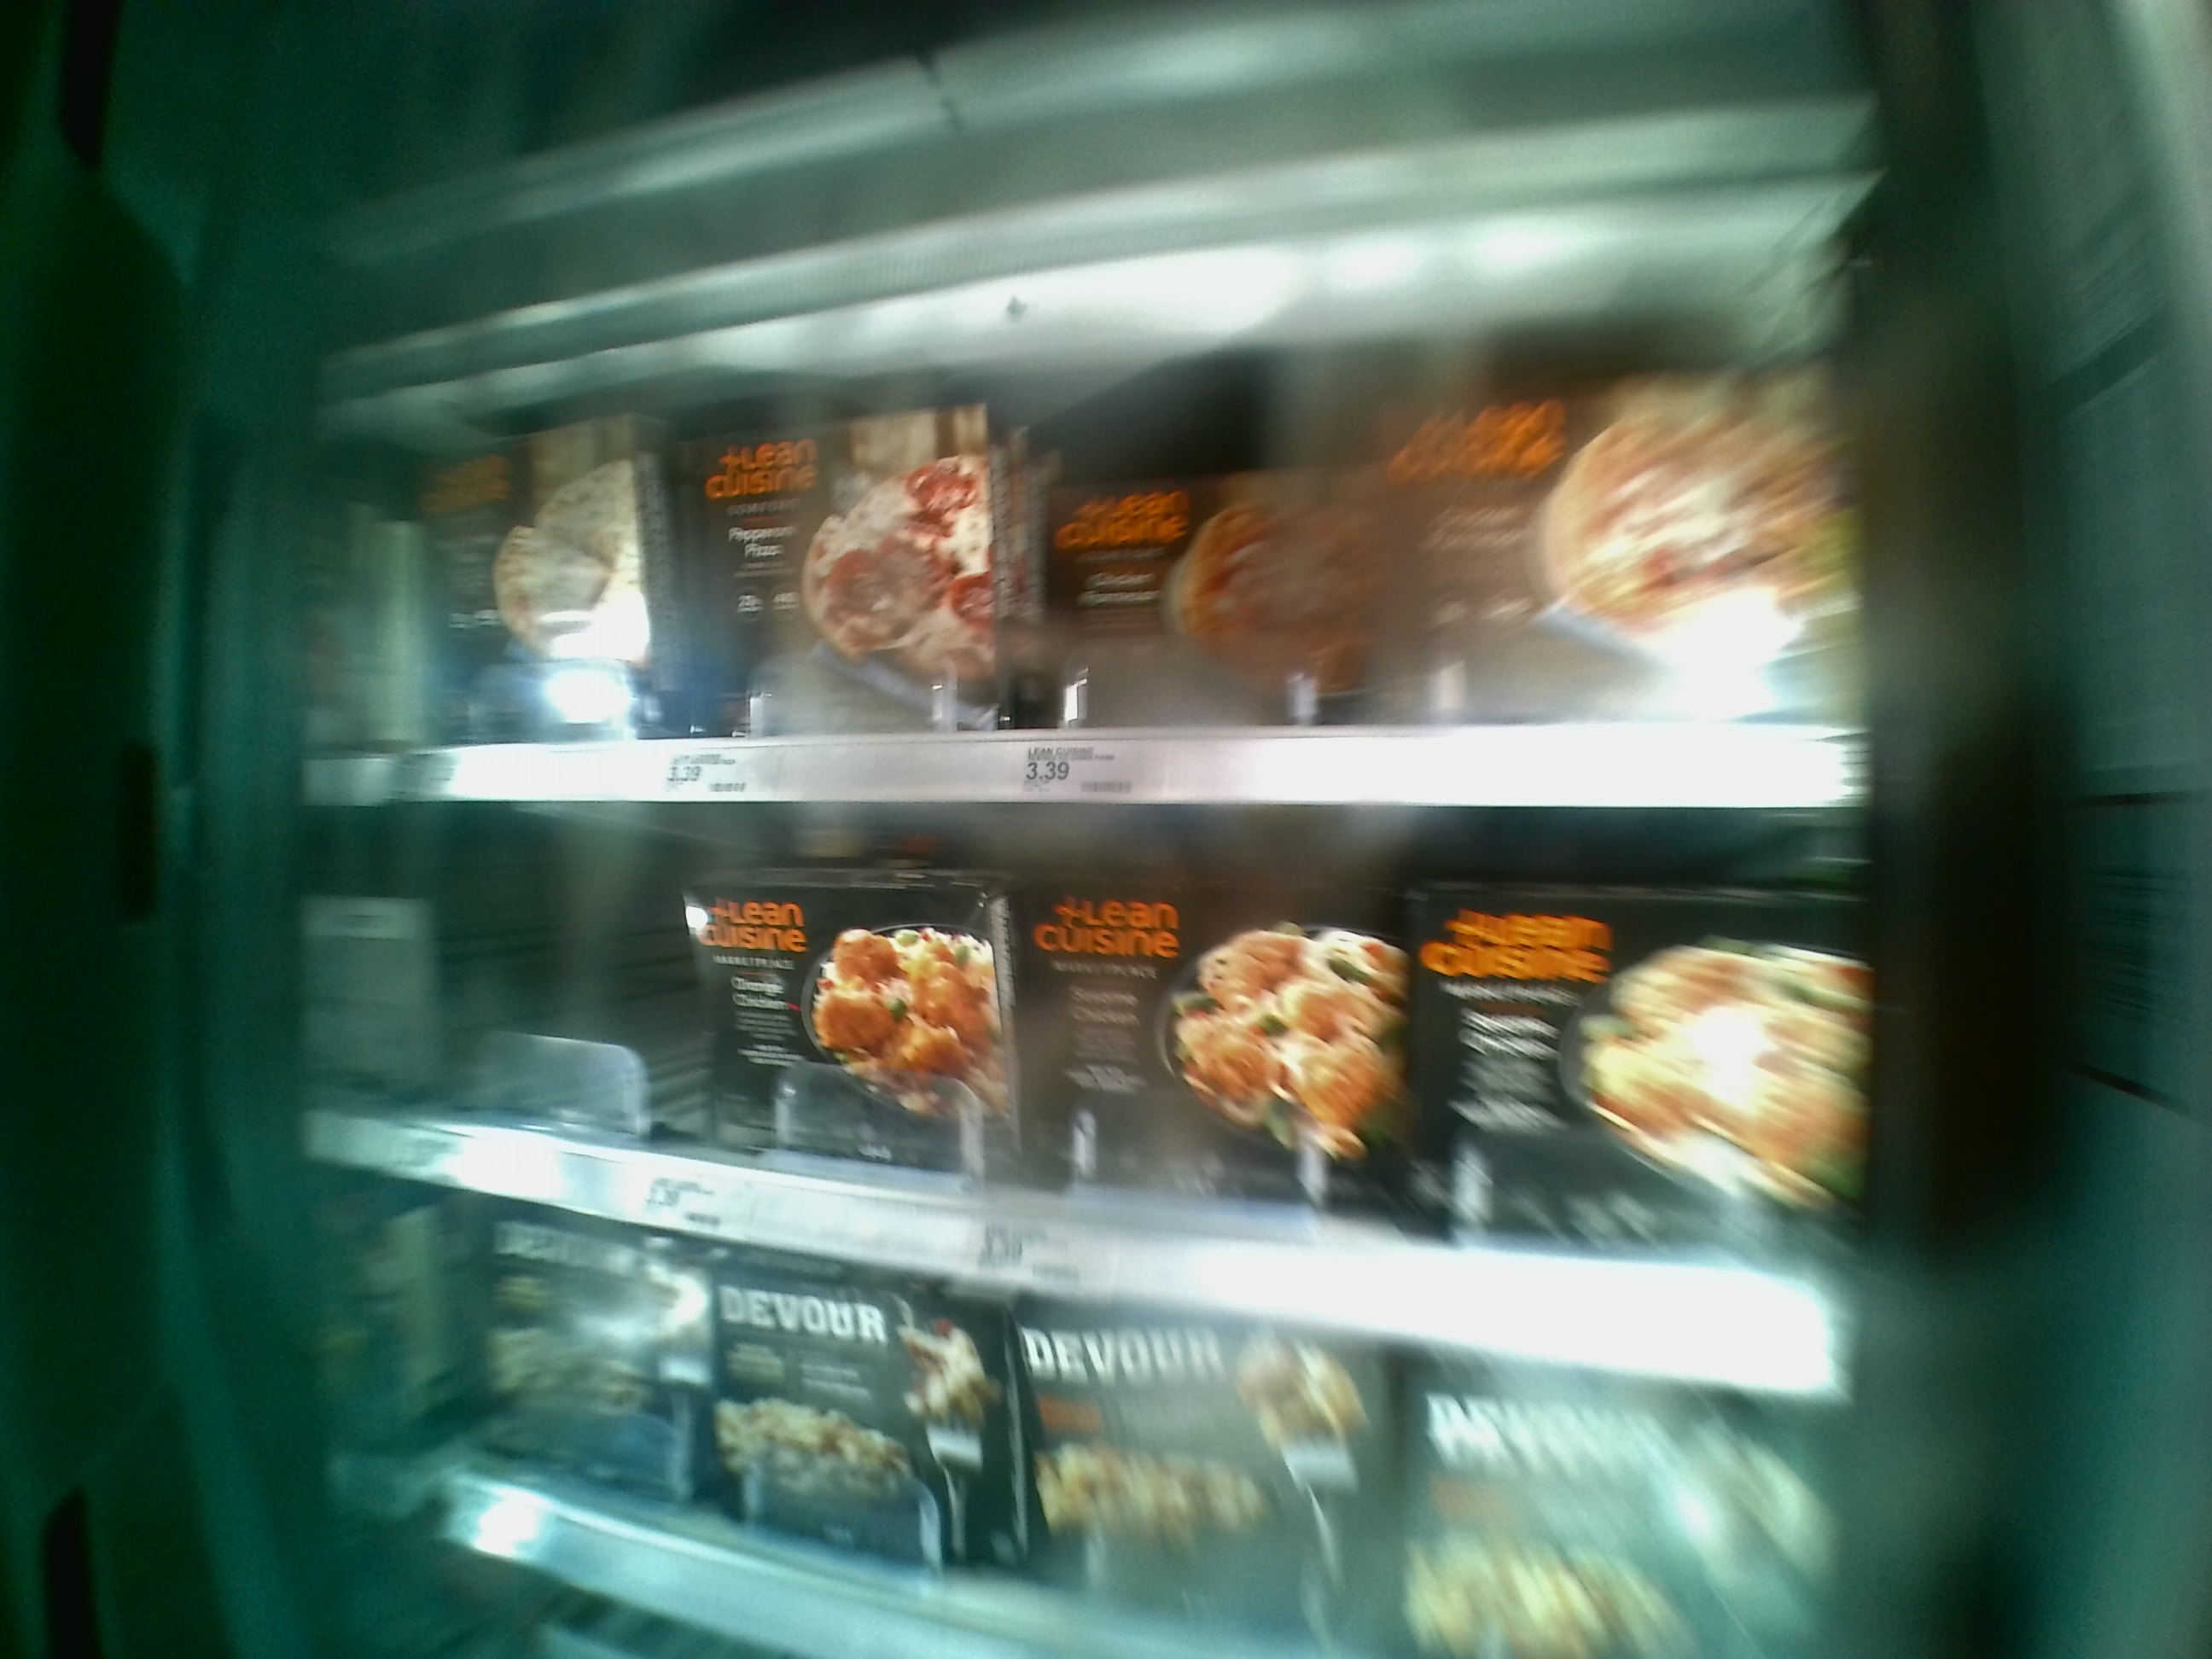shelf: (294, 254, 1850, 809)
